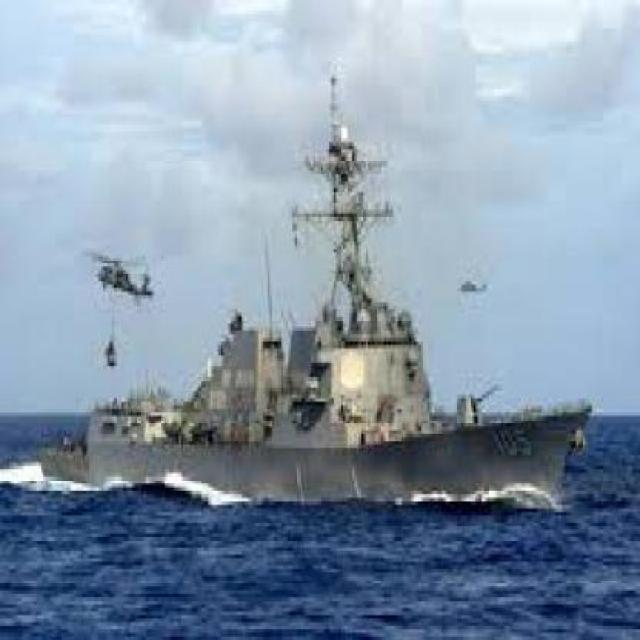warship2: (28, 86, 605, 538)
